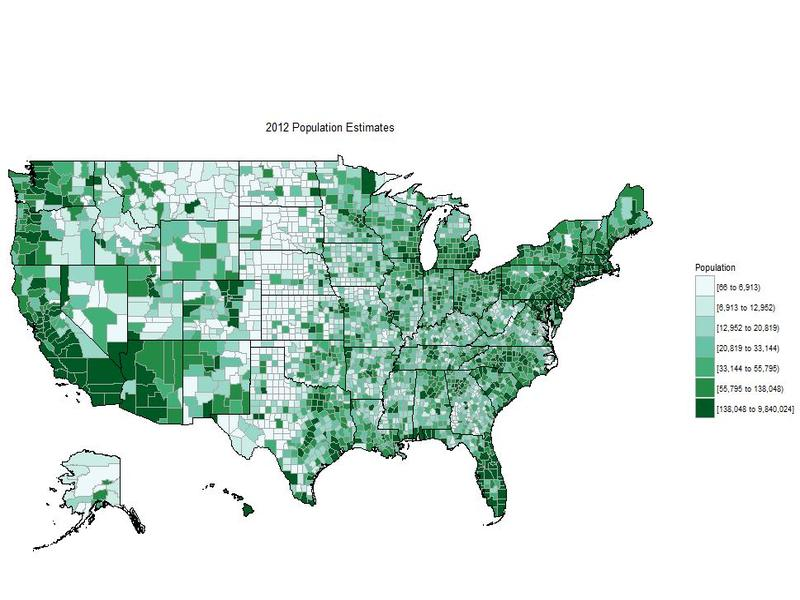legend: (690, 262, 797, 421)
